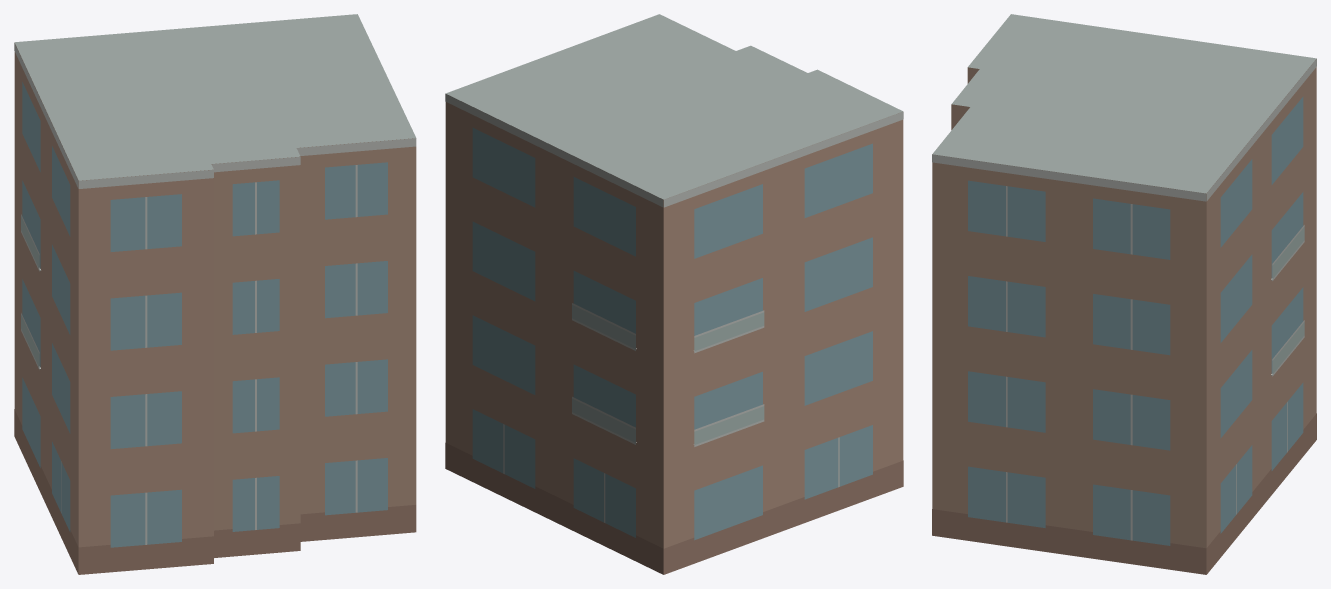
Rendered from survey-upis-32589322.glb.
3 renders of one model, left to right at view 1: azimuth 30°, elevation 25°; view 2: azimuth 150°, elevation 25°; view 3: azimuth 270°, elevation 25°, orthographic. The views are drawn at different scales.
Parts seen in each view (by area): view 1: survey-upis-32589322.tmp; view 2: survey-upis-32589322.tmp; view 3: survey-upis-32589322.tmp.
Boxes of the visible parts, x1,y1,x2,y2 form: survey-upis-32589322.tmp: (14, 14, 416, 574); survey-upis-32589322.tmp: (445, 14, 903, 574); survey-upis-32589322.tmp: (932, 14, 1316, 574).
Bounding box in the file's own units: 11.52 × 11.4 × 10.43.
